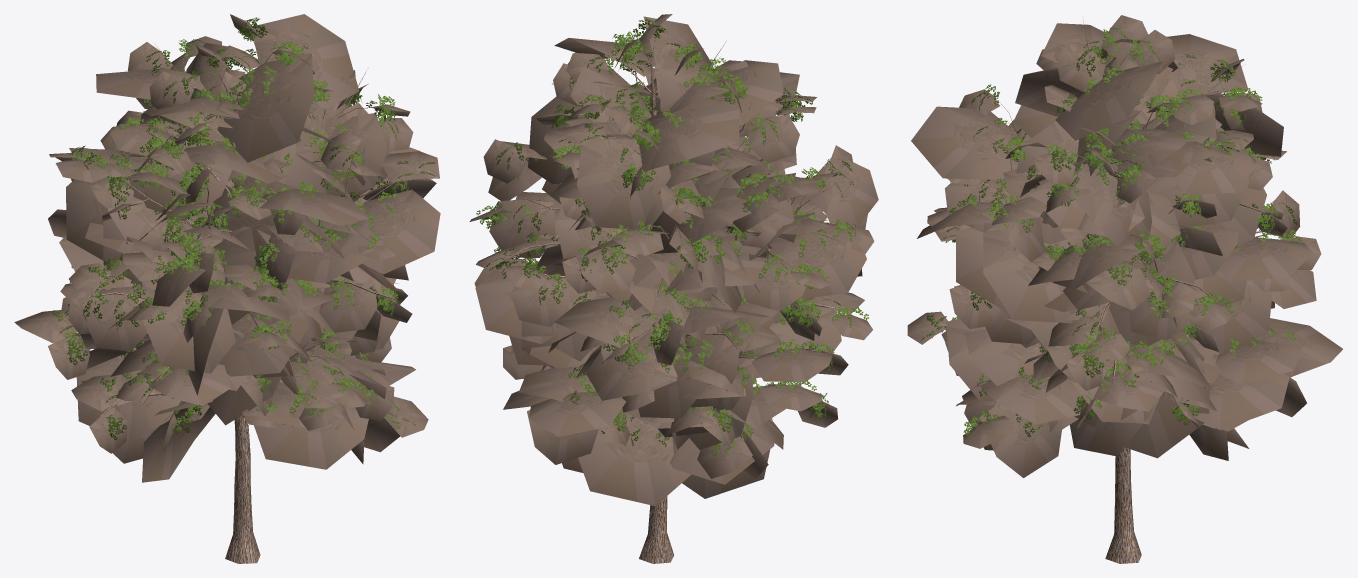
Rendered from Preset_Plant_KusunokiA.fbx.
3 renders of one model, left to right at view 1: azimuth 30°, elevation 25°; view 2: azimuth 150°, elevation 25°; view 3: azimuth 270°, elevation 25°, orthographic.
Parts seen in each view (by area): view 1: Branch, LeafA, LeafB; view 2: Branch, LeafA, LeafB; view 3: Branch, LeafA, LeafB.
Boxes of the visible parts, bbox=[...] form: Branch: bbox=[14, 14, 440, 482]; LeafA: bbox=[52, 17, 435, 440]; LeafB: bbox=[62, 24, 429, 563]; Branch: bbox=[469, 14, 878, 506]; LeafA: bbox=[476, 18, 868, 455]; LeafB: bbox=[503, 15, 853, 563]; Branch: bbox=[907, 15, 1342, 477]; LeafA: bbox=[921, 28, 1302, 436]; LeafB: bbox=[936, 20, 1298, 563].
Bounding box in the file's own units: 447 × 459 × 614.
Materials: 3 (3 with a texture image).
